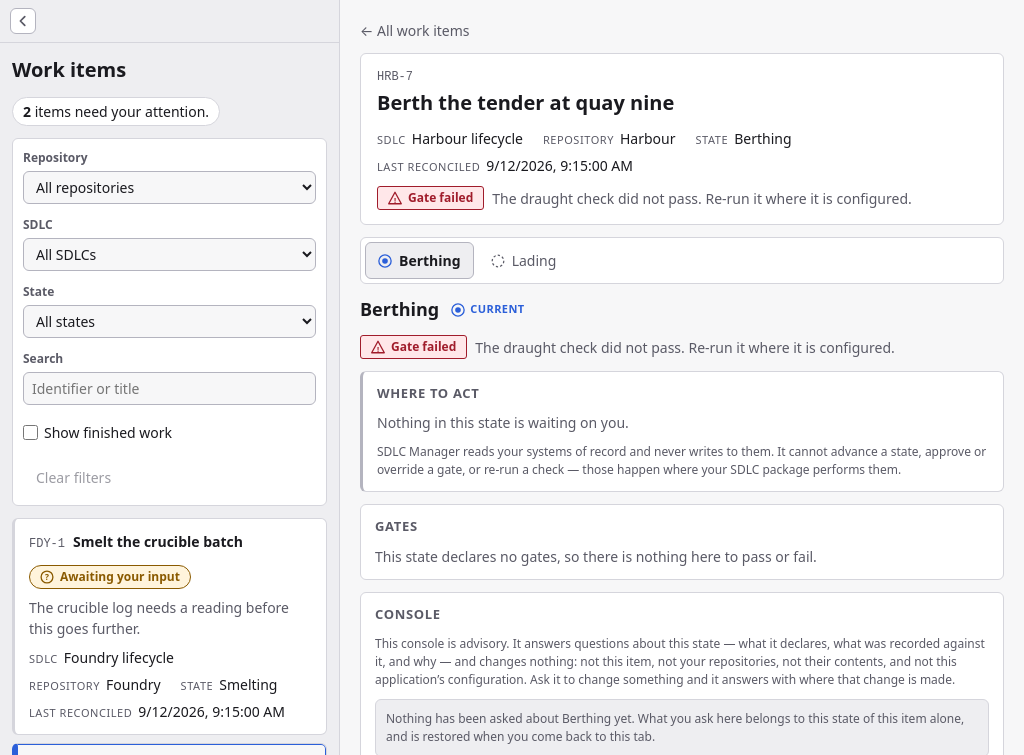
Test: the two-pane workbench › keeps an excluded selection open, and says the list is no longer showing it
The image size is (1024, 755).
Step 1. Select "Foundry" in the dropdown labelled "Repository" → (170, 188), box [23, 171, 316, 204]
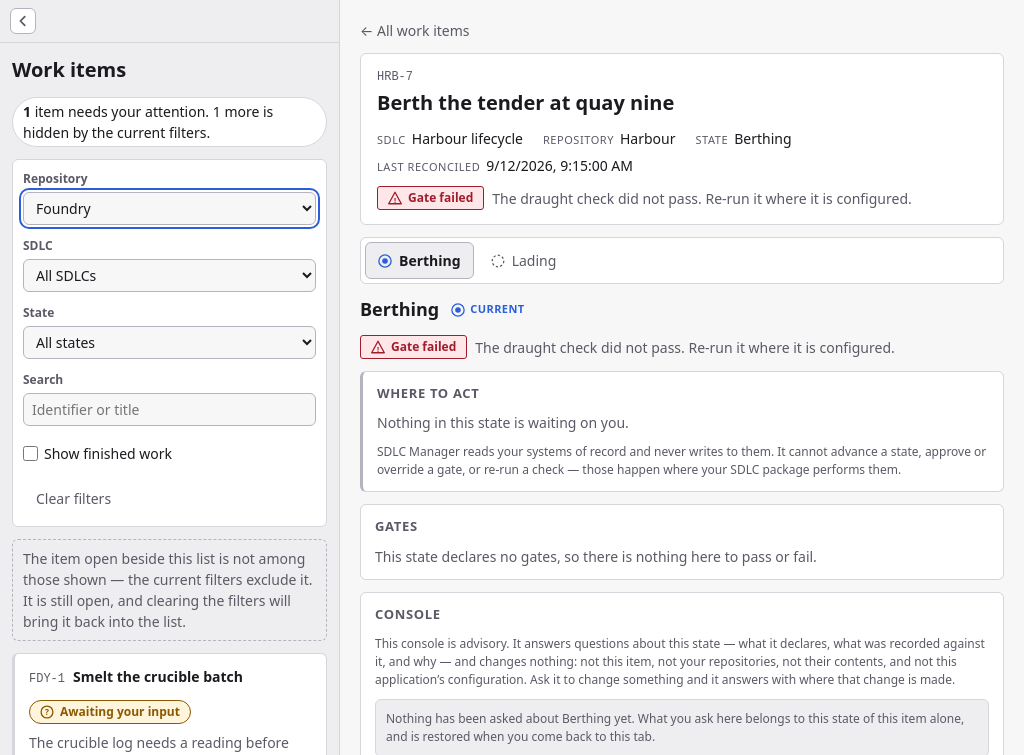
expect the heading "Berth the tender at quay nine" is shown: met, box [377, 89, 674, 116]
expect the text "not among those shown" shows "clearing the filters will bring it back": met, box [23, 549, 312, 631]
Step 2. Click the button "Clear filters" → (74, 498), box [23, 481, 124, 516]
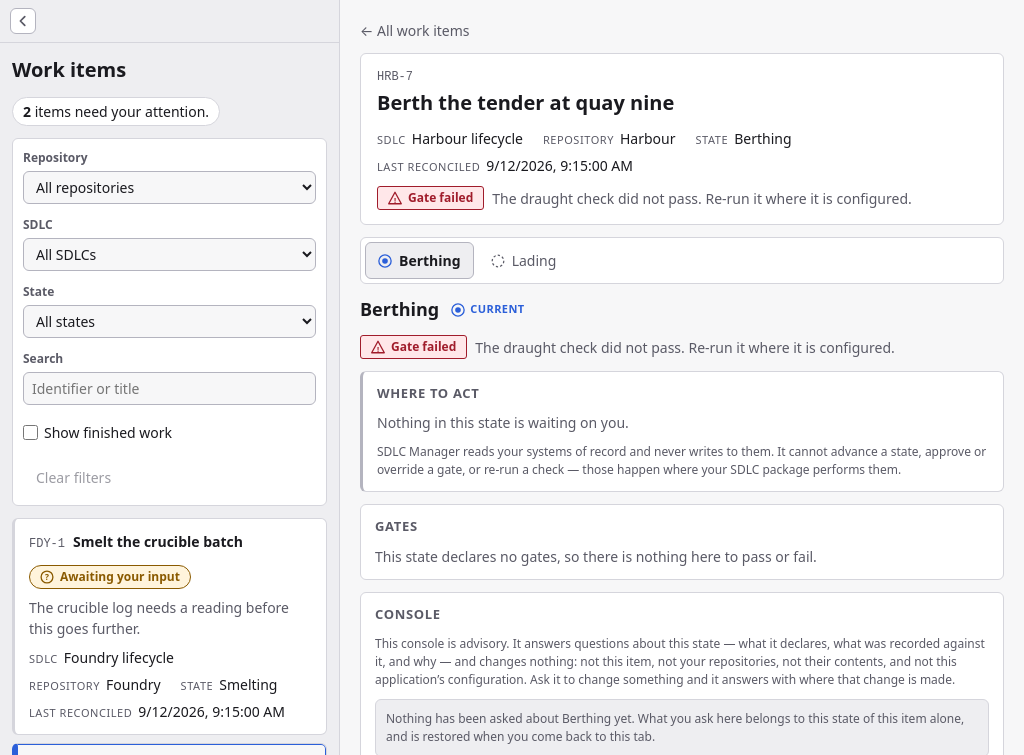
expect the text "not among those shown" is gone: met
